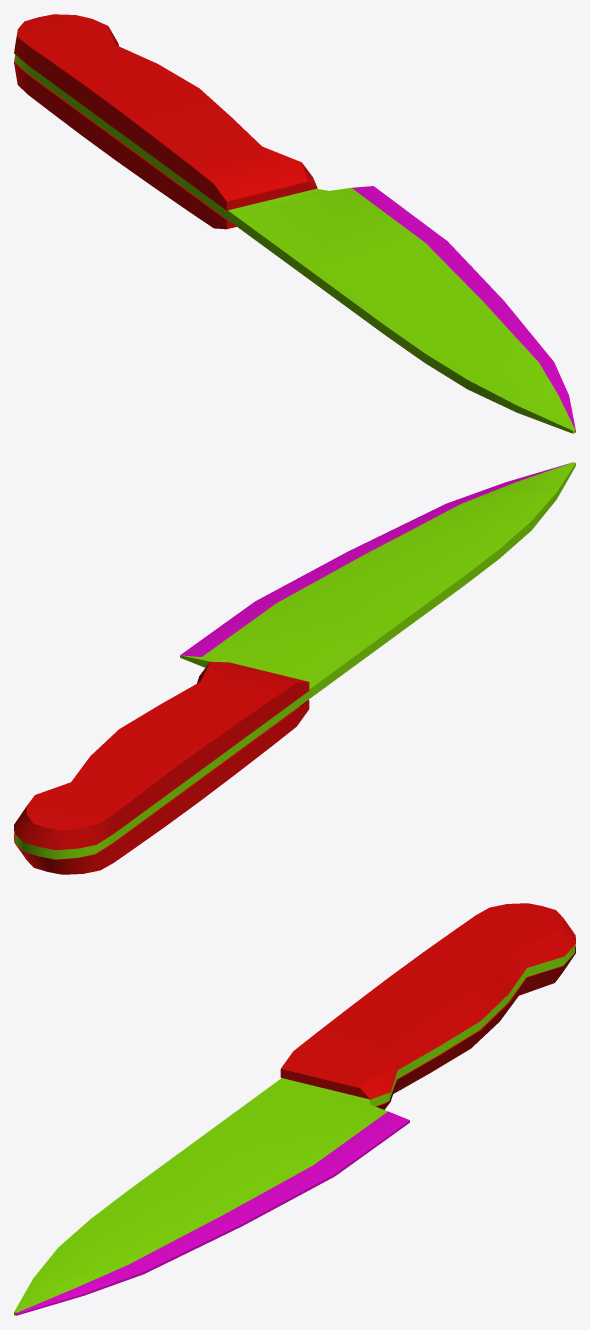
The model's file is knife.fbx.
The picture shows the model from 3 angles, top to bottom: view 1: azimuth 30°, elevation 25°; view 2: azimuth 150°, elevation 25°; view 3: azimuth 330°, elevation 25°; orthographic projection.
Visible parts, largest first — view 1: knife; view 2: knife; view 3: knife.
Boxes of the visible parts, <box> form: knife: <box>14,14,575,433</box>; knife: <box>14,462,575,874</box>; knife: <box>14,903,575,1315</box>.
Bounding box in the file's own units: 0.7131 × 4.79 × 0.2561.
